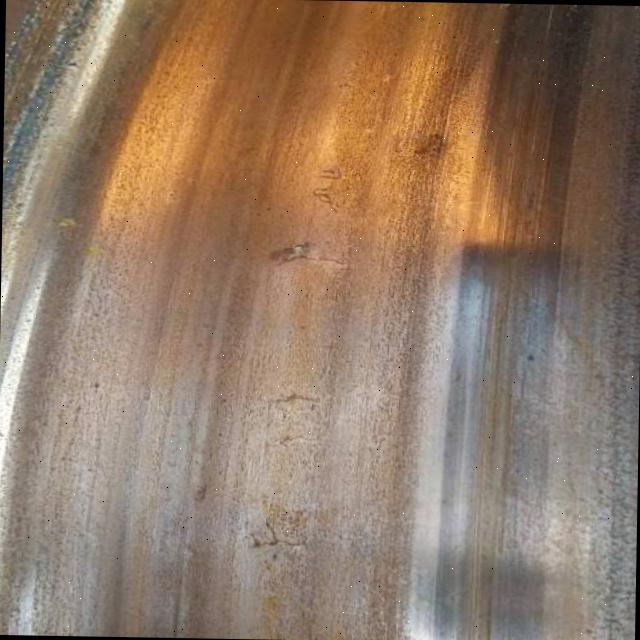Contact_Fatigue_Cracks: (260, 239, 352, 279), (248, 507, 321, 553), (263, 395, 322, 450), (302, 166, 354, 215)
